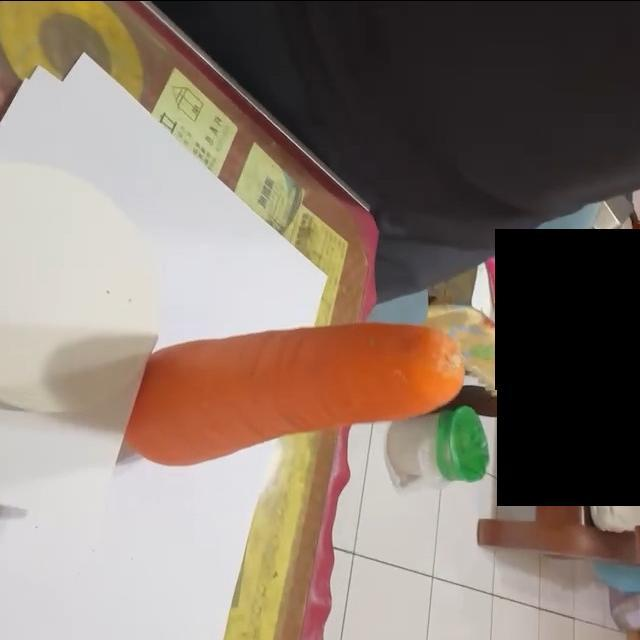carrot: (119, 319, 468, 469)
